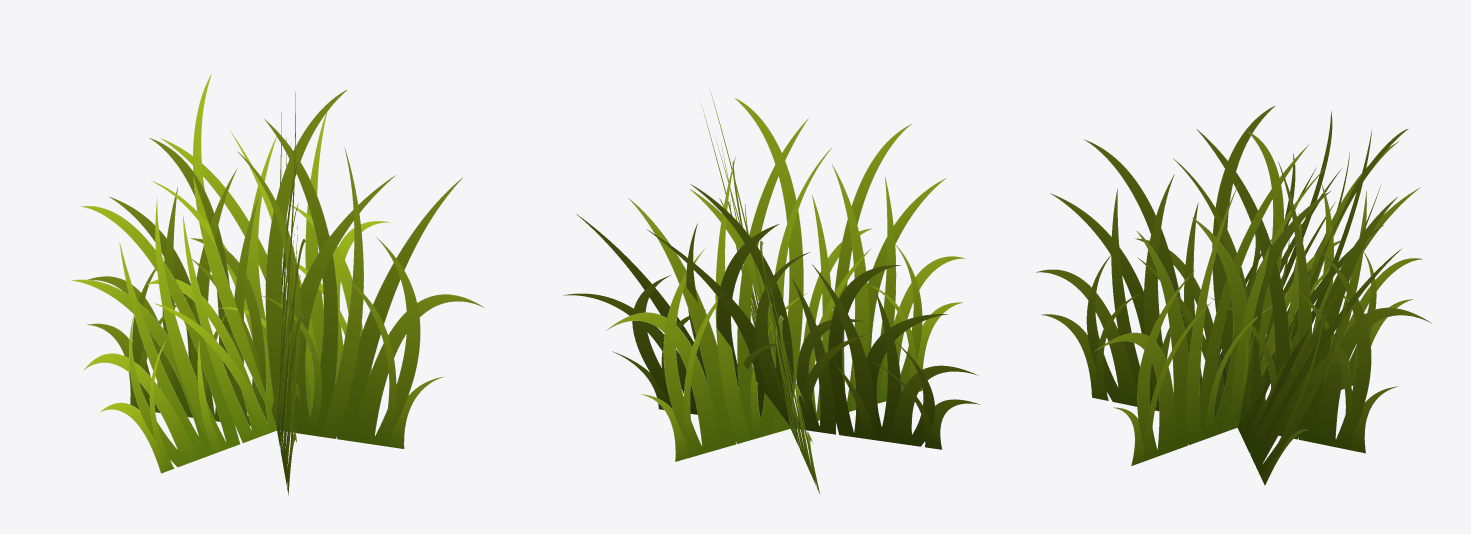
The model's file is grass.fbx.
3 views of the same model, side by side, from view 1: azimuth 30°, elevation 25°; view 2: azimuth 150°, elevation 25°; view 3: azimuth 270°, elevation 25° (orthographic). The views are drawn at different scales.
Visible parts, largest first — view 1: grass.002, grass, grass.001; view 2: grass.001, grass, grass.002; view 3: grass.001, grass.002, grass.
Part boxes in pixels (<box>): grass.002: <box>87,89,484,448</box>; grass: <box>71,74,390,473</box>; grass.001: <box>277,91,305,495</box>; grass.001: <box>606,98,965,461</box>; grass: <box>562,184,979,449</box>; grass.002: <box>701,91,820,494</box>; grass.001: <box>1036,106,1432,453</box>; grass.002: <box>1093,132,1422,465</box>; grass: <box>1219,111,1408,485</box>.
Size of the model in its own units: 125 by 99.8 by 114.
